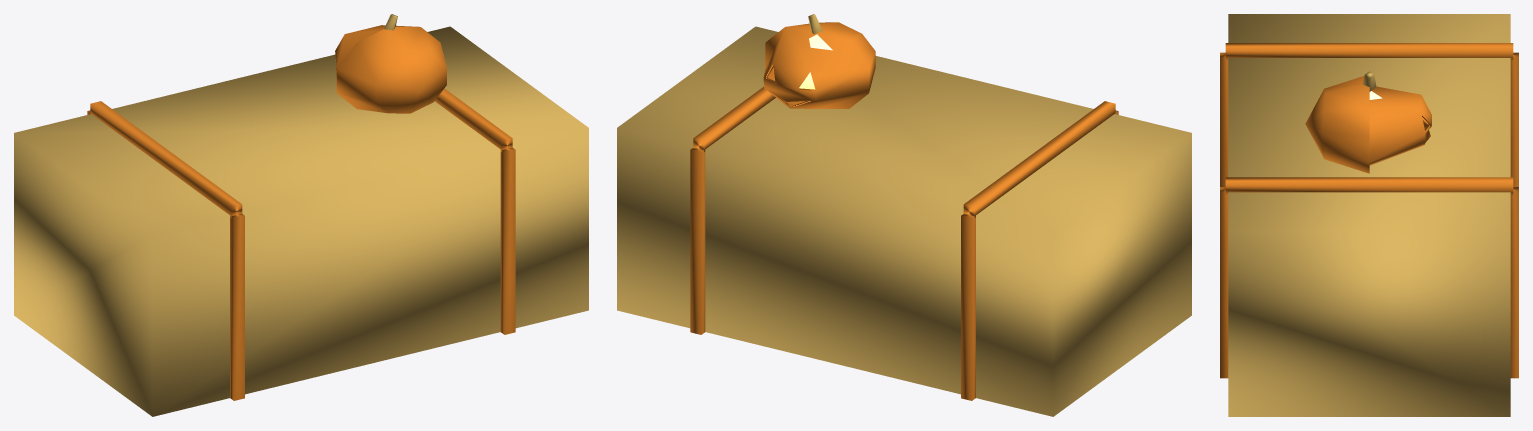
The model's file is hay_bale_low.glb.
3 views of the same model, side by side, from view 1: azimuth 30°, elevation 25°; view 2: azimuth 150°, elevation 25°; view 3: azimuth 270°, elevation 25° (orthographic).
Bounding box in the file's own units: 1 × 0.605 × 0.582.
